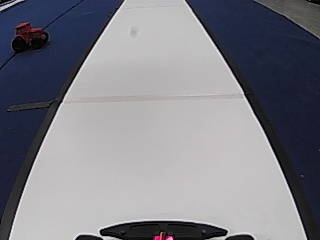tractor: (9, 20, 47, 52)
